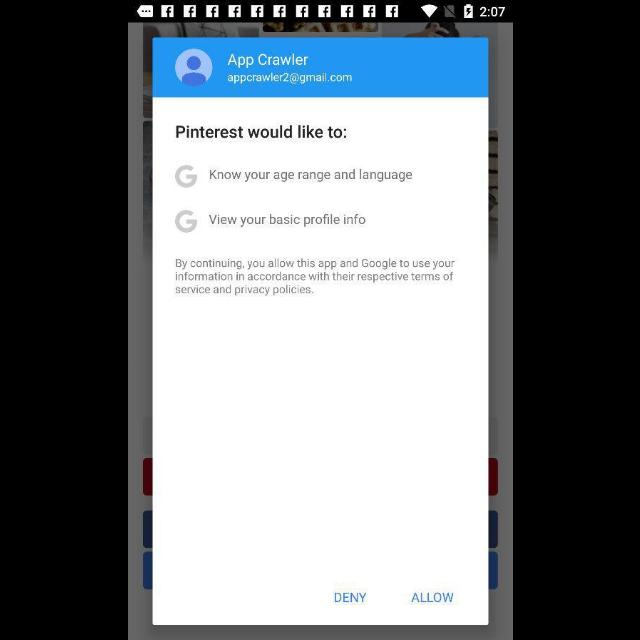icon: (174, 49, 212, 87)
panel: (152, 39, 488, 626)
text: (174, 258, 454, 296), (208, 169, 412, 183), (175, 124, 348, 140), (208, 214, 364, 228), (228, 73, 352, 85), (226, 54, 308, 68), (175, 165, 198, 189), (175, 210, 198, 233), (410, 592, 452, 604), (334, 592, 366, 602)
uppertaskbar: (128, 1, 512, 23)
